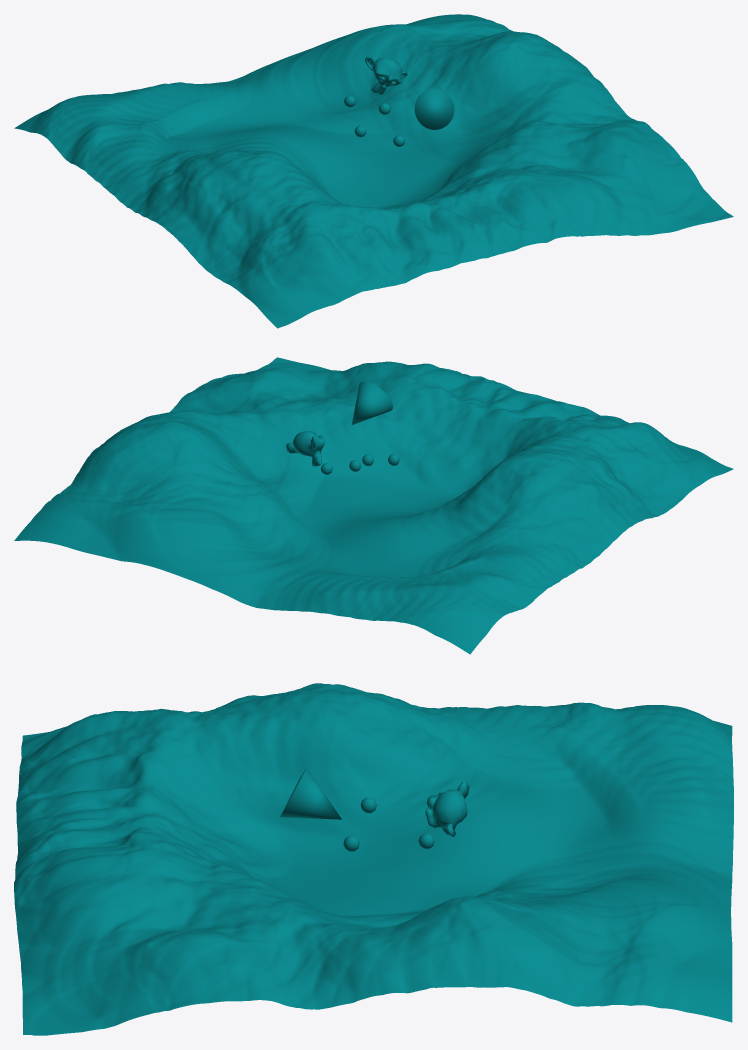
3 renders of one model, top to bottom at view 1: azimuth 30°, elevation 25°; view 2: azimuth 150°, elevation 25°; view 3: azimuth 270°, elevation 25°, orthographic. The views are drawn at different scales.
Visible parts, largest first — view 1: Plane, Cone, Suzanne; view 2: Plane, Cone, Suzanne; view 3: Plane, Cone, Suzanne.
Boxes of the visible parts, x1,y1,x2,y2 form: Plane: (14, 14, 733, 328); Cone: (414, 88, 454, 129); Suzanne: (365, 55, 407, 94); Plane: (14, 357, 733, 654); Cone: (351, 381, 392, 424); Suzanne: (286, 431, 325, 466); Plane: (14, 683, 733, 1035); Cone: (280, 768, 341, 819); Suzanne: (425, 782, 469, 836).
Bounding box in the file's own units: 390 × 80.84 × 387.
